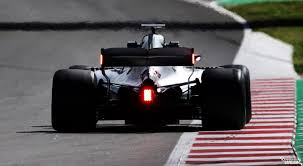f1_car: (44, 19, 258, 137)
